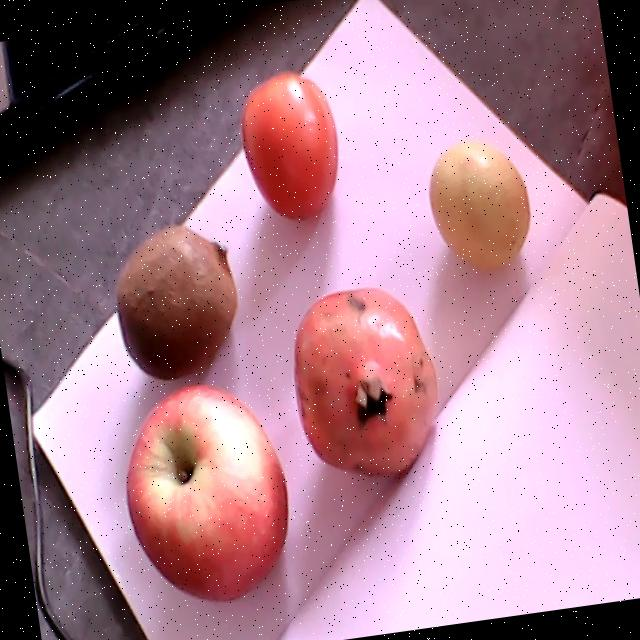apple: (126, 386, 290, 602)
kiwi: (116, 223, 237, 382)
lemon: (430, 142, 531, 269)
pomegranate: (294, 287, 438, 476)
tomato: (241, 71, 339, 221)
